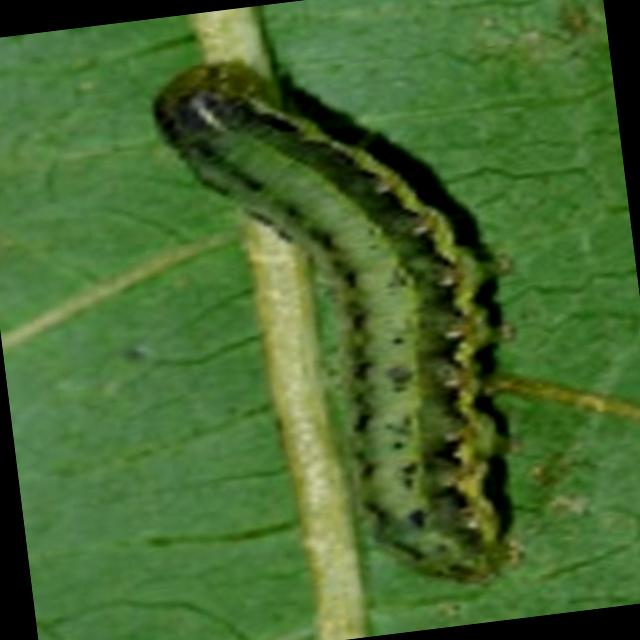Beet armyworm: (101, 0, 595, 640)
